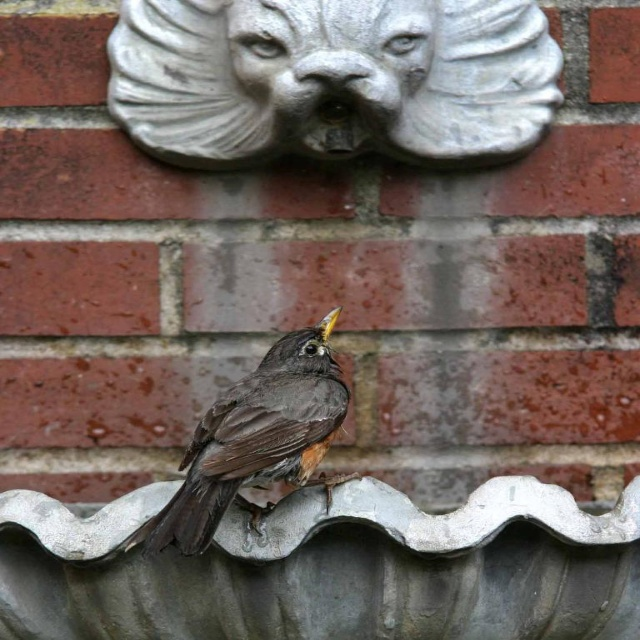Sparrow: (136, 307, 350, 558)
